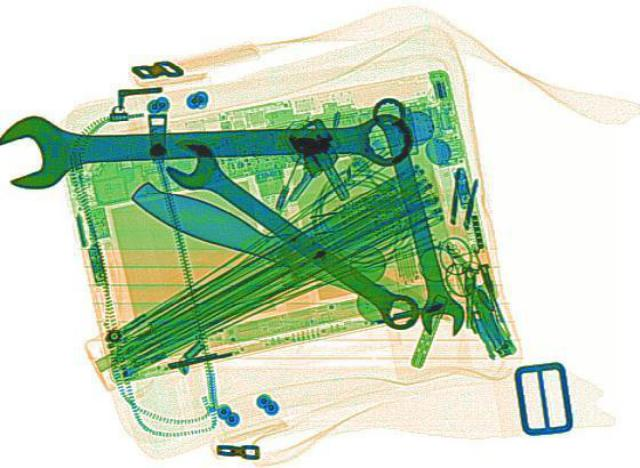Knife: (117, 170, 449, 326)
Wrench: (150, 136, 438, 334), (0, 93, 414, 188), (365, 94, 465, 337)
